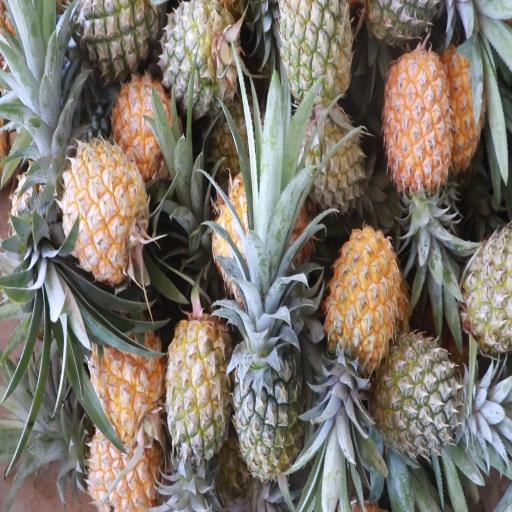------------------------------: (165, 316, 229, 488)
Pineapple - v8 v1: (328, 229, 399, 457), (383, 48, 450, 276), (56, 148, 156, 282), (87, 319, 168, 451), (111, 76, 187, 189), (439, 36, 488, 182)
